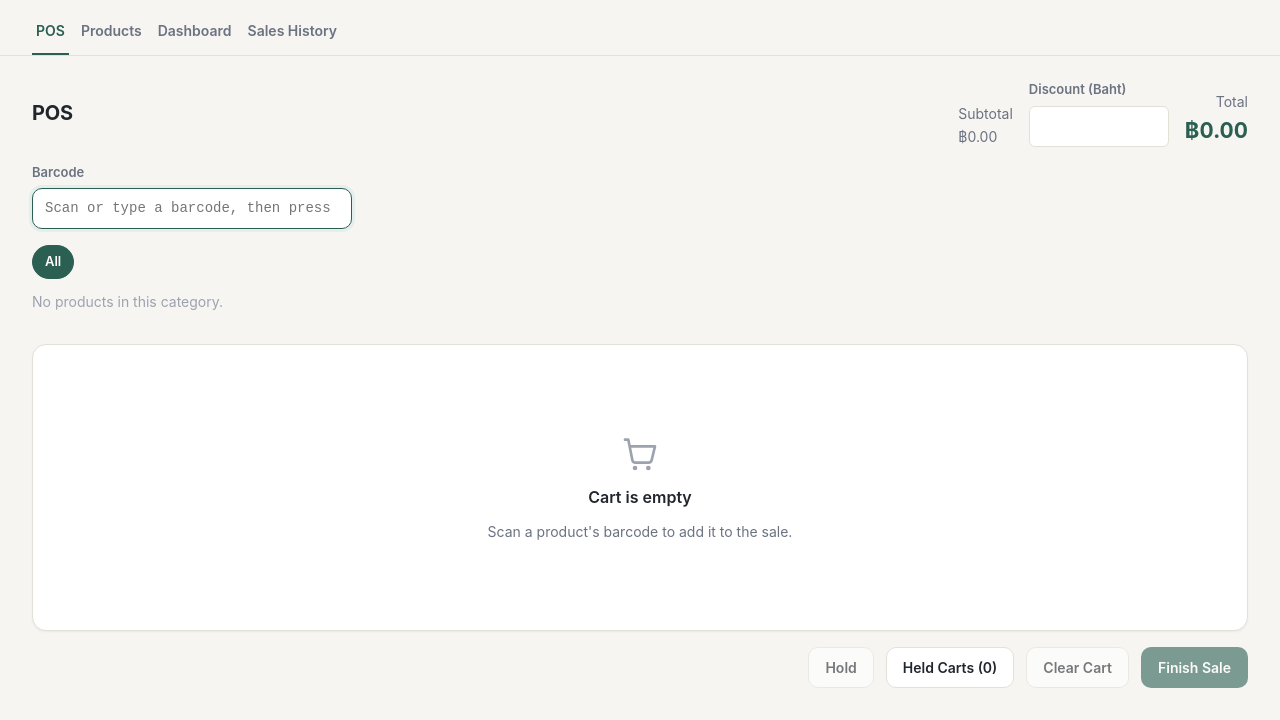
Test: App › switches to the Products screen when its tab is clicked
Click the button "Products" at [111, 34], box [77, 12, 146, 55]
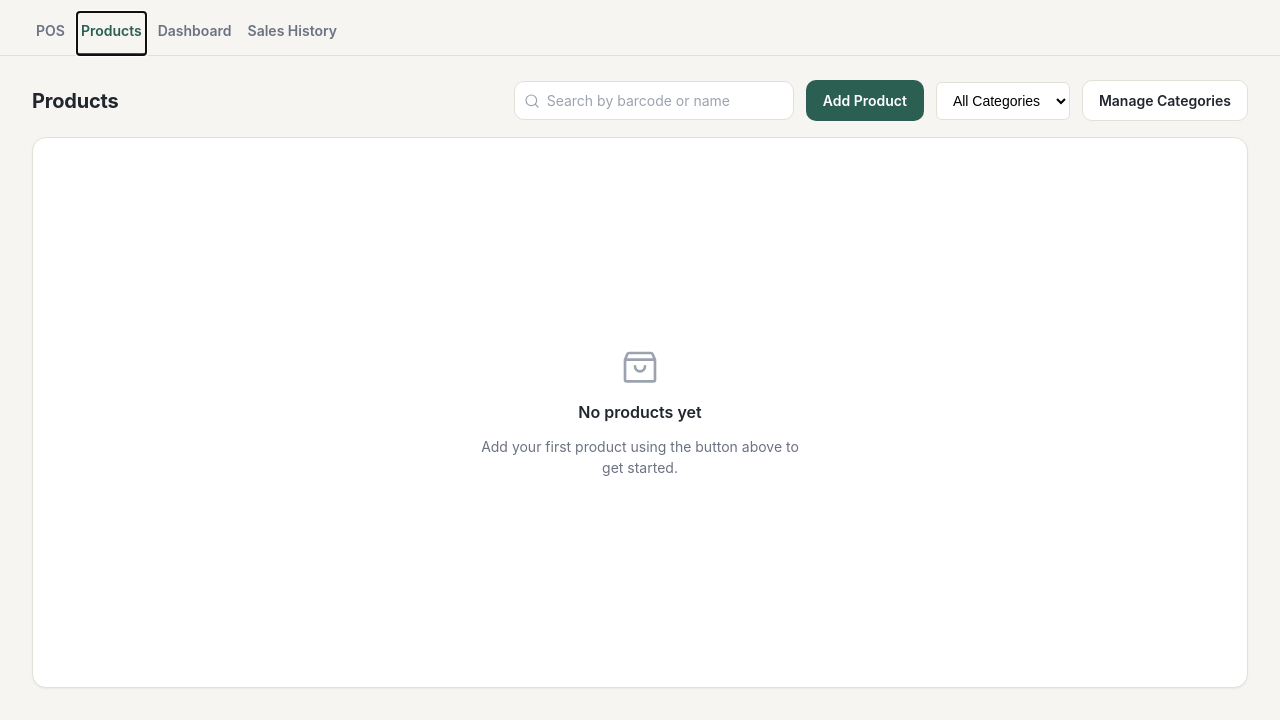
Expected: the button "Add Product" is shown, [806, 80, 924, 121]
